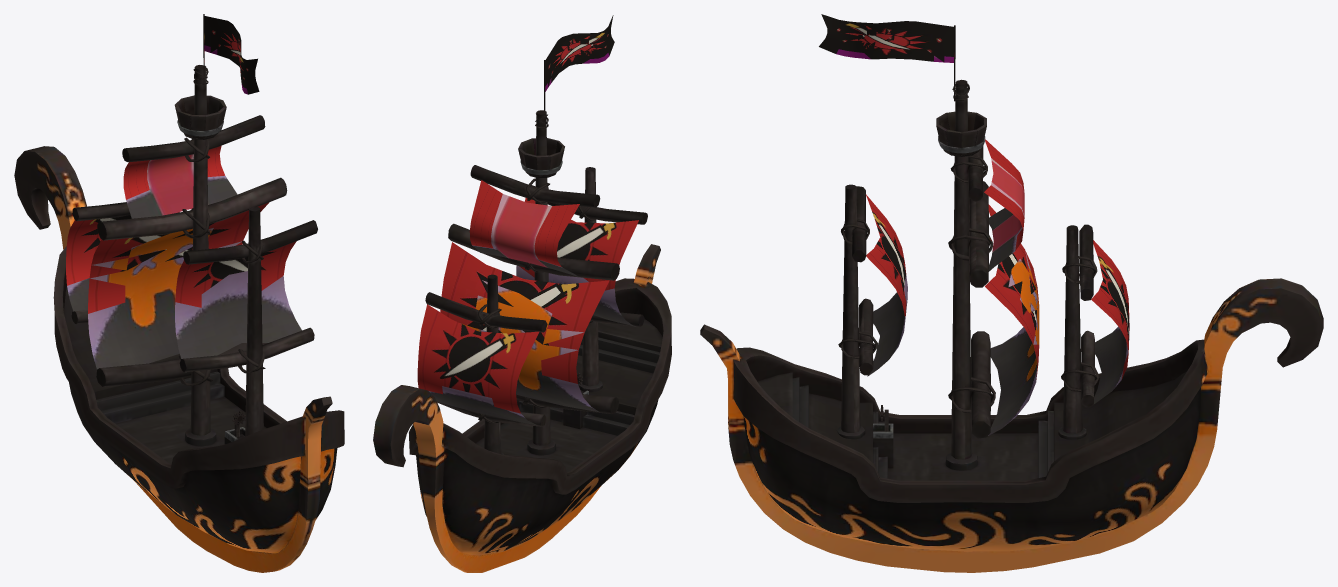
Rendered from fireship.glb.
The picture shows the model from 3 angles, left to right: view 1: azimuth 30°, elevation 25°; view 2: azimuth 150°, elevation 25°; view 3: azimuth 270°, elevation 25°; orthographic projection. The views are drawn at different scales.
Parts seen in each view (by area): view 1: Object_2; view 2: Object_2; view 3: Object_2.
Boxes of the visible parts, x1,y1,x2,y2 form: Object_2: [14, 14, 344, 572]; Object_2: [373, 15, 671, 572]; Object_2: [700, 14, 1323, 572].
Bounding box in the file's own units: 7.53 × 21.55 × 22.
1 material, 1 textured.
